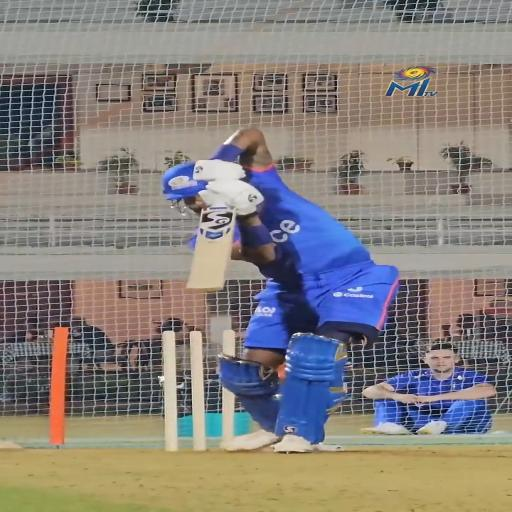Cricket bat: (186, 200, 235, 291)
